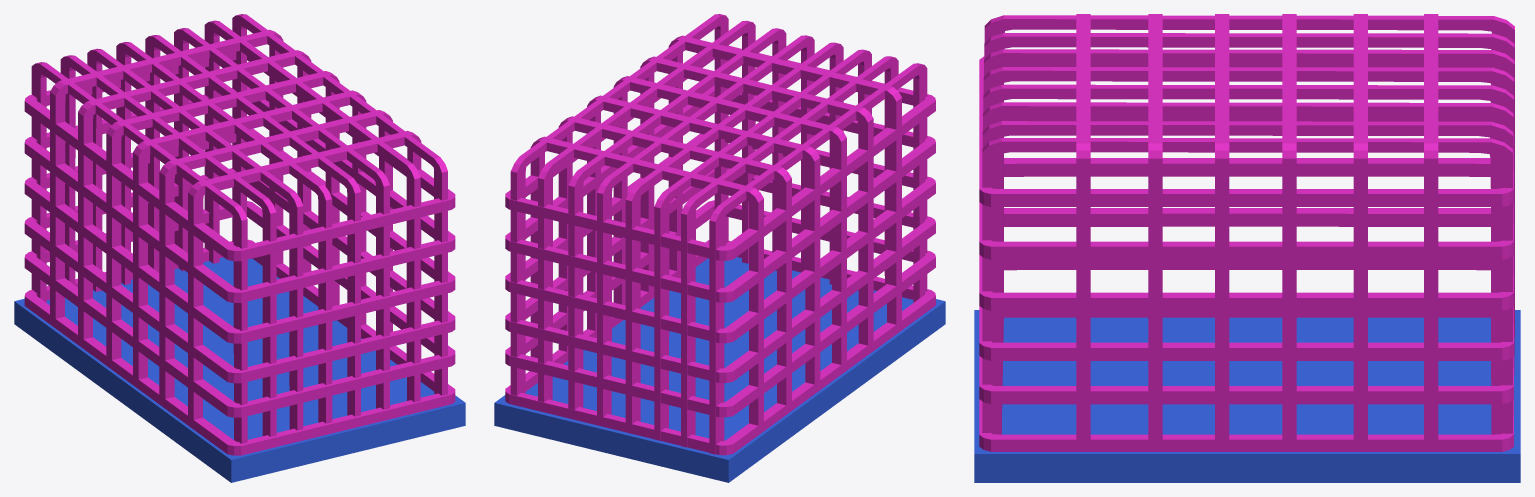
File: GGJ-Hamster-CageUpdated.fbx
The picture shows the model from 3 angles, left to right: view 1: azimuth 30°, elevation 25°; view 2: azimuth 150°, elevation 25°; view 3: azimuth 270°, elevation 25°; orthographic projection. The views are drawn at different scales.
Parts seen in each view (by area): view 1: Hamster-Cage.060; view 2: Hamster-Cage.060; view 3: Hamster-Cage.060.
Part boxes in pixels (x1,y1,x2,y2): Hamster-Cage.060: (14,14,465,482); Hamster-Cage.060: (494,14,945,482); Hamster-Cage.060: (974,14,1520,482).
Size of the model in its own units: 120 by 74.62 by 80.31.
